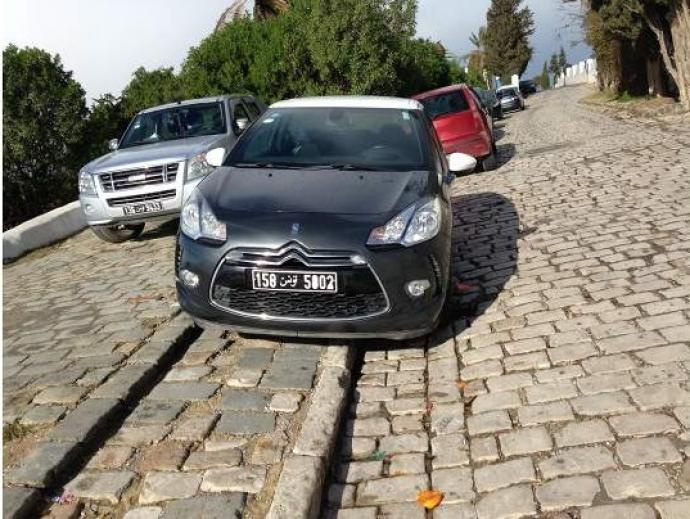LP: (251, 267, 341, 297)
